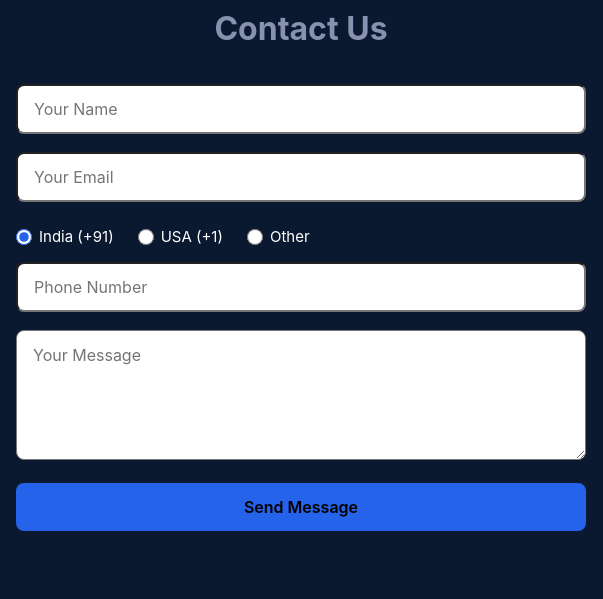
Test case: shows a configuration failure without posting when the contact endpoint is missing
Type "9876543210" into the field with placeholder "Phone Number" at (301, 287), box 16,262 -> 586,312
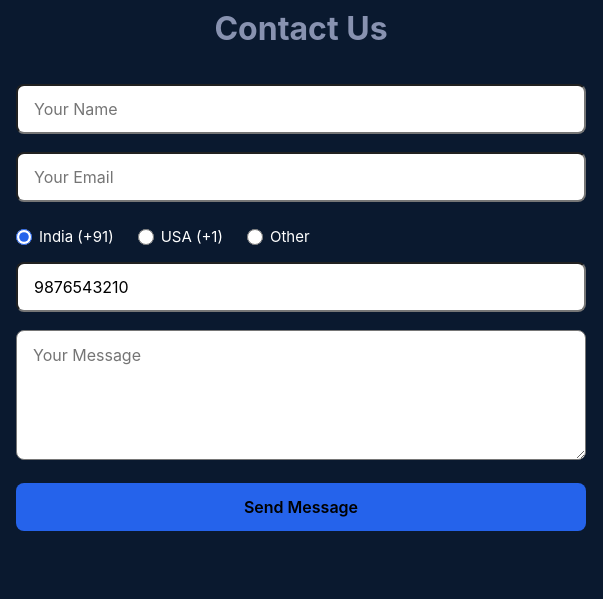
Type "Test User" into the field with placeholder "Your Name" at (301, 109), box 16,84 -> 586,134
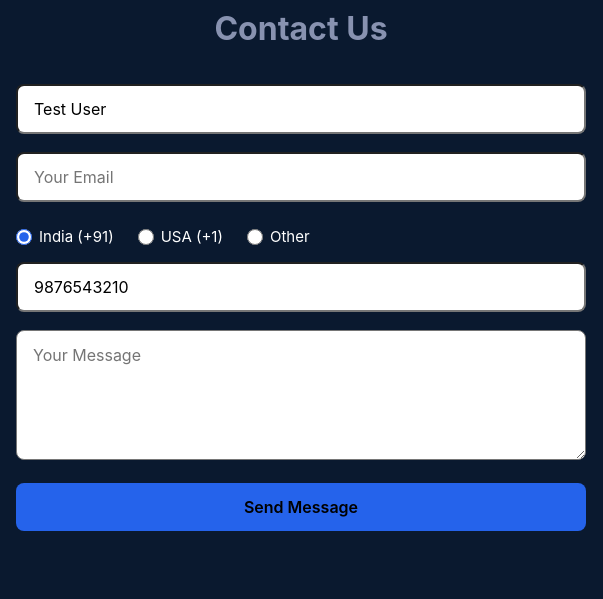
Type "test@example.com" into the field with placeholder "Your Email" at (301, 177), box 16,152 -> 586,202
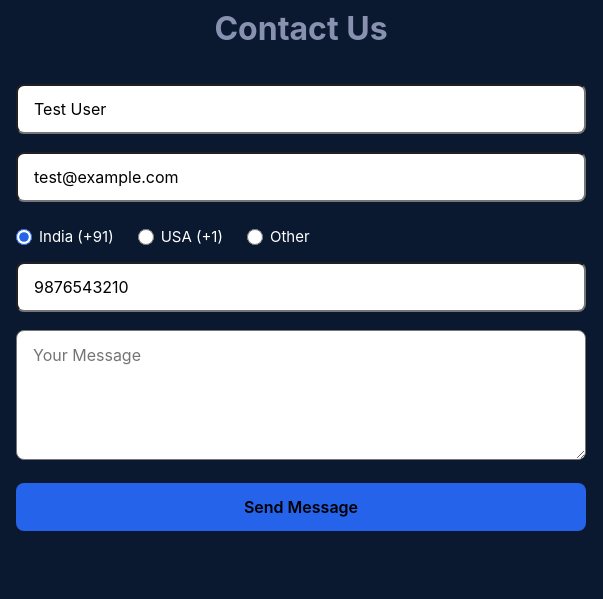
Type "Test message" into the text box with placeholder "Your Message" at (301, 395), box 16,330 -> 586,460
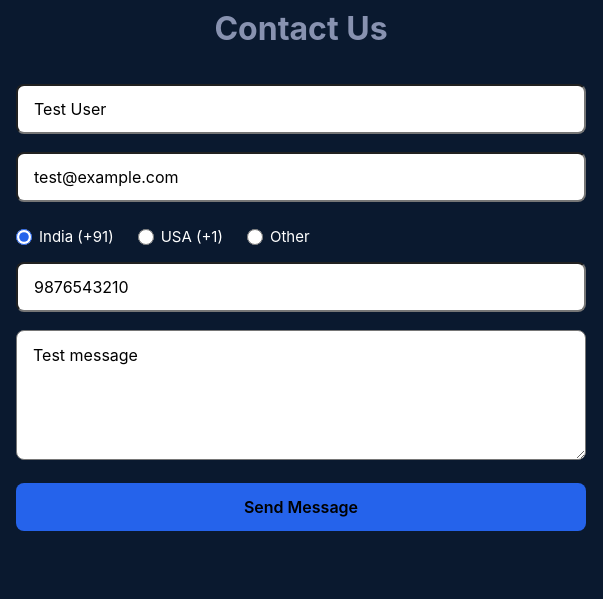
Click the button "Send Message" at (301, 507), box 16,483 -> 586,531
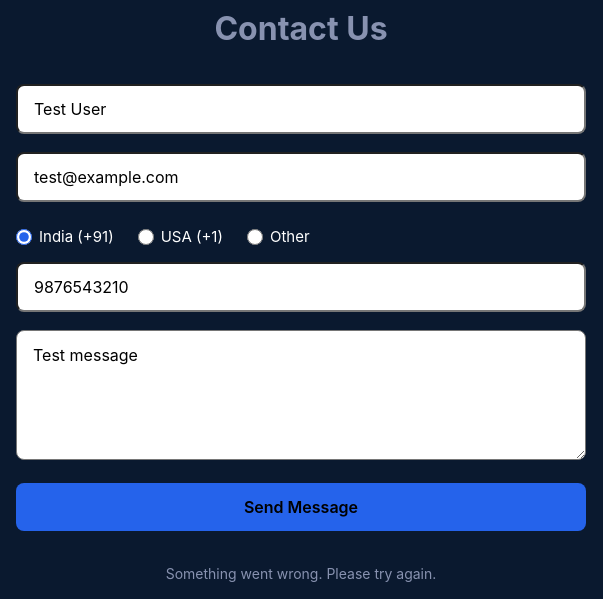
Now the text "Something went wrong. Please try again." is shown, box 166,565 -> 436,582
